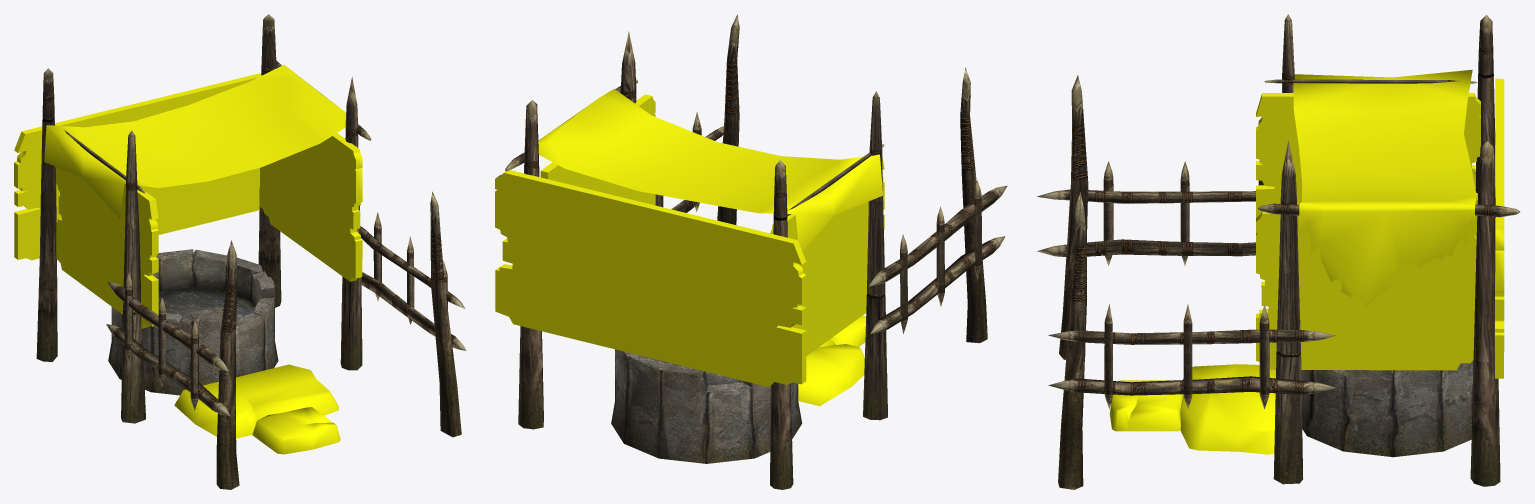
Rendered from gaint_well_01.glb.
The picture shows the model from 3 angles, left to right: view 1: azimuth 30°, elevation 25°; view 2: azimuth 150°, elevation 25°; view 3: azimuth 270°, elevation 25°; orthographic projection. The views are drawn at different scales.
Parts seen in each view (by area): view 1: giant_well_01; view 2: giant_well_01; view 3: giant_well_01.
Part boxes in pixels (<box>): giant_well_01: <box>14,14,466,489</box>; giant_well_01: <box>495,14,1007,489</box>; giant_well_01: <box>1037,14,1519,489</box>.
Bounding box in the file's own units: 10.89 × 11.04 × 14.22.
4 materials, 4 textured.
